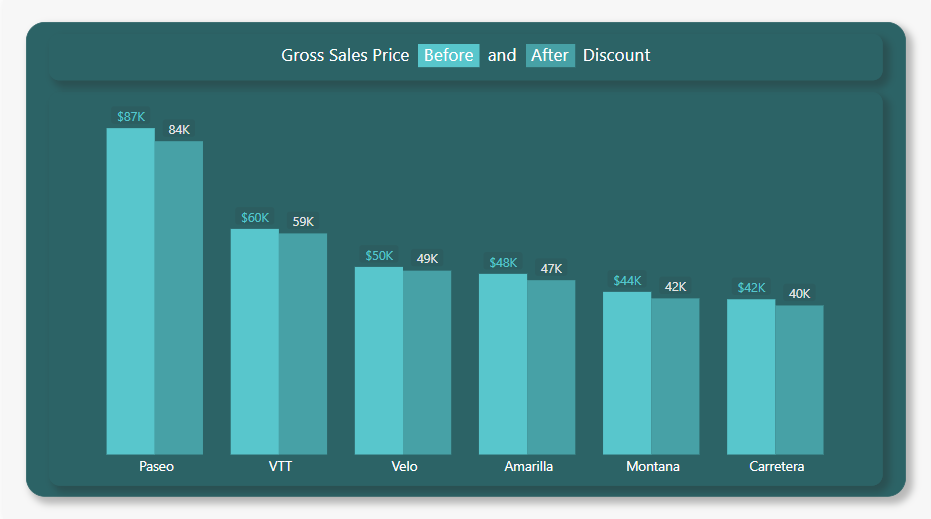

This screenshot's page, from the dashboard's own definition file:
{"tool":"powerbi","page":{"name":"Sales Price Before & After Discount","canvas":[1280,720],"ordinal":1},"visuals":[{"type":"basicShape","box":[32,32,1216,656],"z":0},{"type":"clusteredColumnChart","fields":{"Category":["financials.Product"],"Y":["Sum(financials.Sale Price)","Sum(financials.Gross Sales after discount)"]},"box":[64,128,1152,544],"z":1000},{"type":"textbox","box":[574,62,85,32],"z":2000},{"type":"textbox","box":[723,62,68,32],"z":2500},{"type":"textbox","box":[64,48,1152,64],"z":3000}]}

Visuals, with their boxes in screenshot pixels (x1, y1, x2, y2), scaled from the page's 1280x720 canvas onto the 931x519 screenshot:
basicShape: box(23, 23, 908, 496)
clusteredColumnChart - financials.Product x Sum(financials.Sale Price): box(47, 92, 884, 484)
textbox: box(417, 45, 479, 68)
textbox: box(526, 45, 575, 68)
textbox: box(47, 35, 884, 81)
